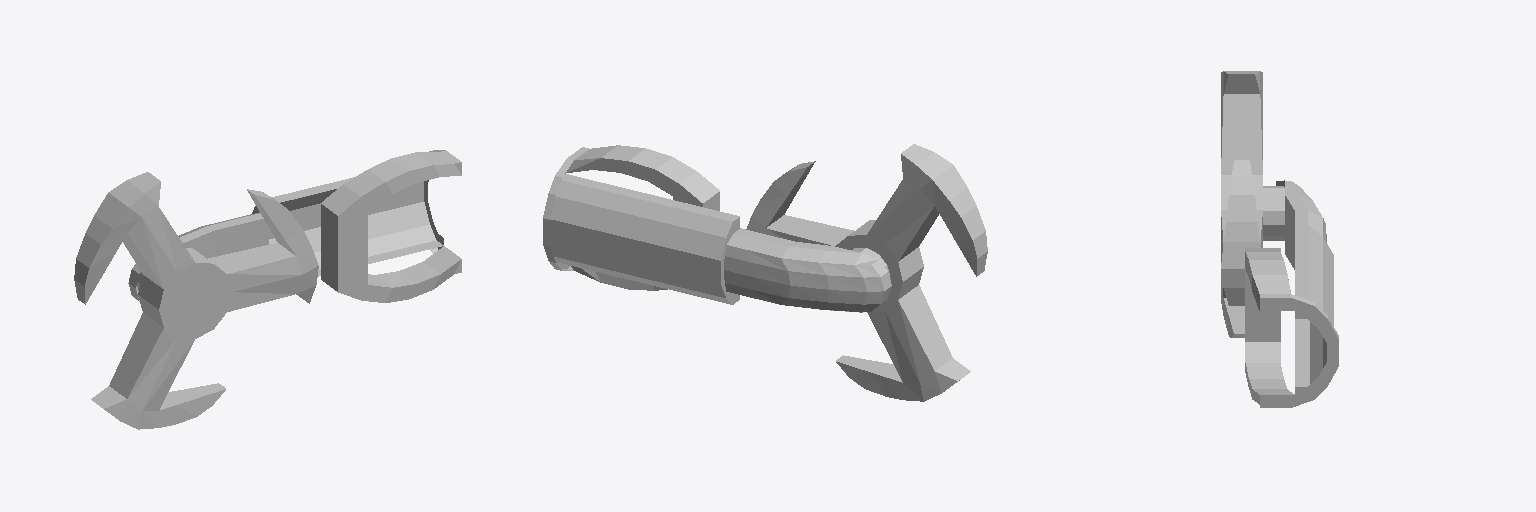
File: skyhook.obj
3 views of the same model, side by side, from view 1: azimuth 30°, elevation 25°; view 2: azimuth 150°, elevation 25°; view 3: azimuth 270°, elevation 25° (orthographic).
Visible parts, largest first — view 1: grabber, frame; view 2: frame, grabber; view 3: frame, grabber.
Boxes of the visible parts, x1=… form: grabber: x1=74, y1=172, x2=318, y2=429; frame: x1=128, y1=150, x2=461, y2=302; frame: x1=543, y1=145, x2=891, y2=312; grabber: x1=746, y1=144, x2=987, y2=401; frame: x1=1245, y1=180, x2=1338, y2=407; grabber: x1=1221, y1=71, x2=1285, y2=337.
Size of the model in its own units: 4.03 by 2.42 by 1.05.